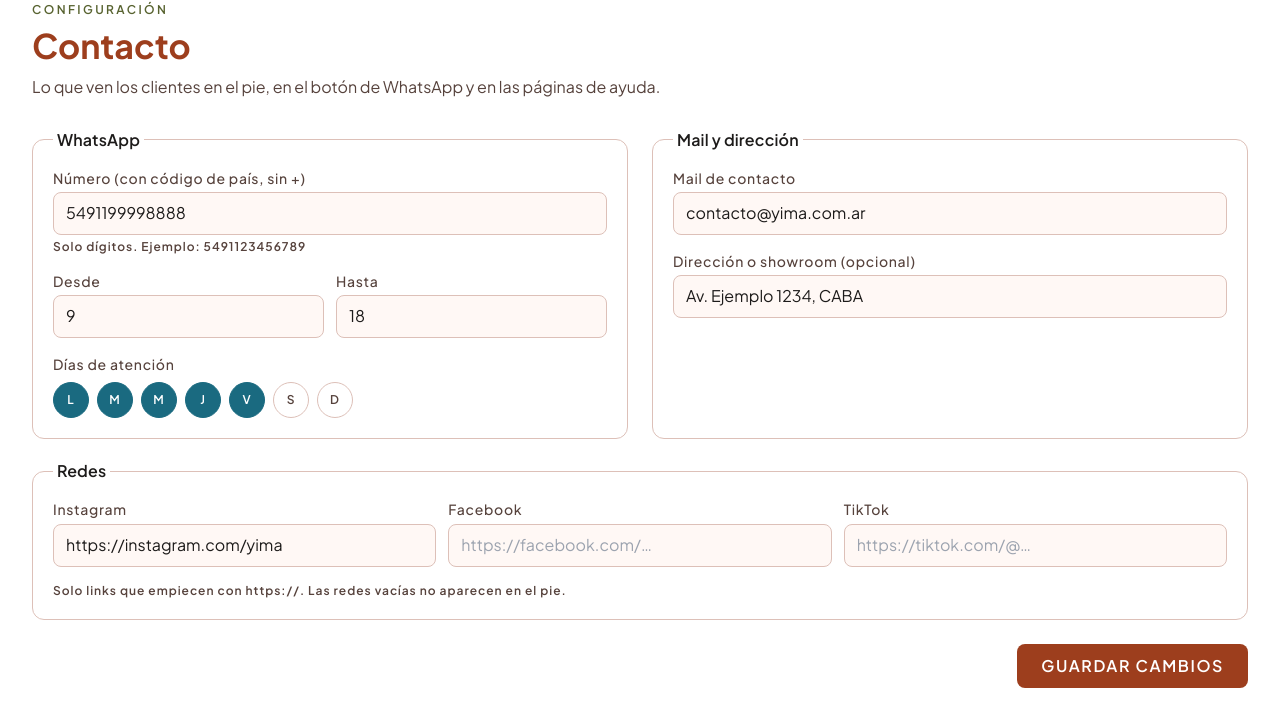
Test: AdminContacto — guardar › un error al guardar muestra un toast de error, sin romper el formulario
(page scrolled)
Expected: the field labelled "Número (con código de país, sin +)" holds "5491199998888", [53, 192, 607, 235]
Click the button "Guardar cambios": (1133, 666) [1017, 644, 1248, 688]
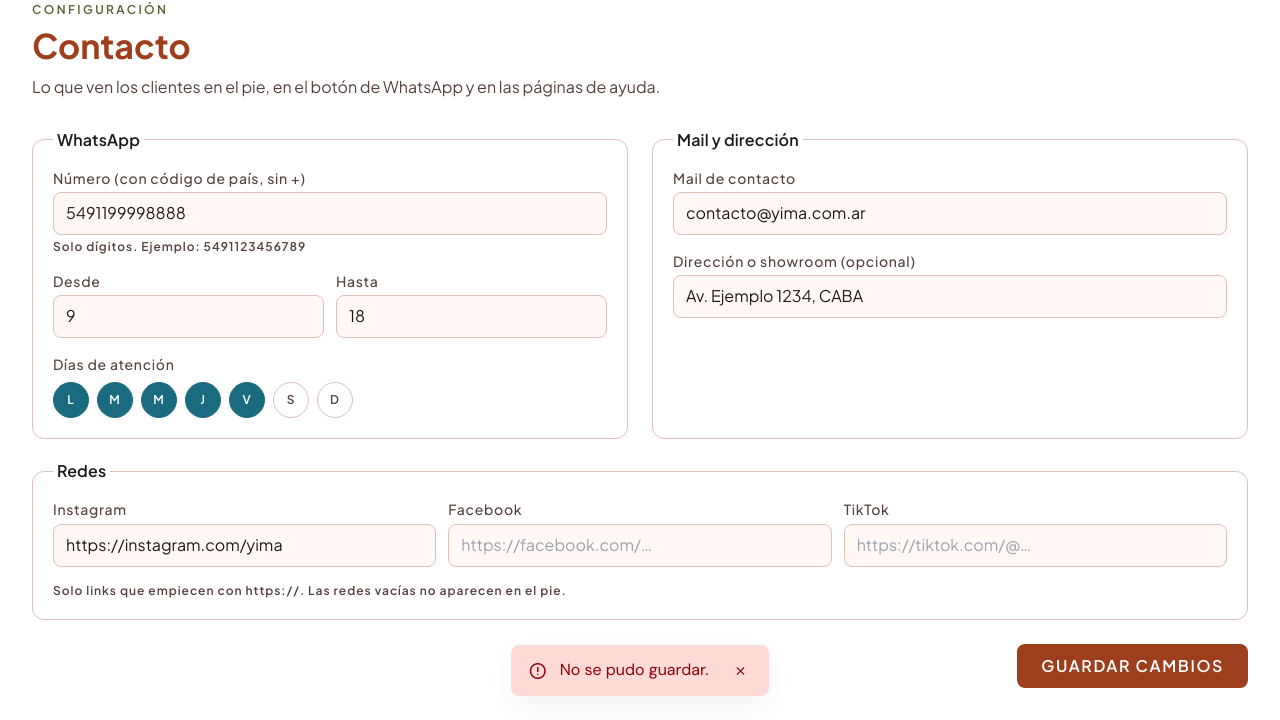
Expected: the field labelled "Número (con código de país, sin +)" holds "5491199998888", [53, 192, 607, 235]
Expected: the text "No se pudo guardar." is shown, [560, 658, 708, 683]
